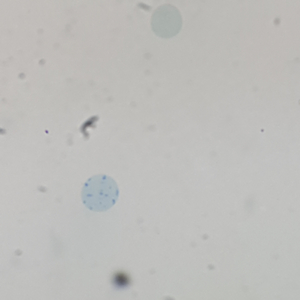aggregate reticulocyte: (79, 173, 121, 214)
erythrocyte: (149, 2, 184, 40)
